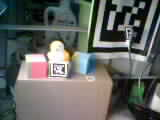duck: (47, 36, 71, 60)
